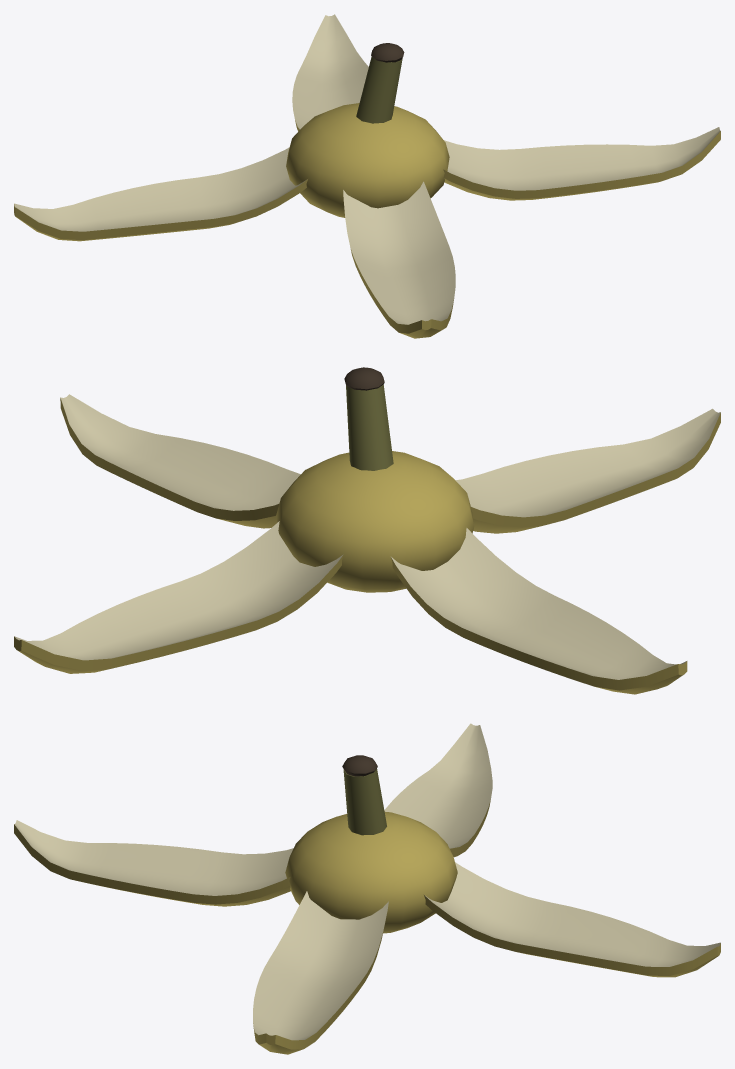
The model's file is w_pj_peel.glb.
The picture shows the model from 3 angles, top to bottom: view 1: azimuth 30°, elevation 25°; view 2: azimuth 150°, elevation 25°; view 3: azimuth 270°, elevation 25°; orthographic projection. The views are drawn at different scales.
Parts seen in each view (by area): view 1: peel_wzN, peel_wzA, stalk_wzB, stalk_wzN; view 2: peel_wzN, peel_wzA, stalk_wzB, stalk_wzN; view 3: peel_wzN, peel_wzA, stalk_wzB, stalk_wzN.
Part boxes in pixels (bbox=[...]): peel_wzN: bbox=[14, 14, 720, 324]; peel_wzA: bbox=[14, 103, 720, 338]; stalk_wzB: bbox=[356, 57, 402, 123]; stalk_wzN: bbox=[371, 43, 404, 62]; peel_wzN: bbox=[14, 394, 720, 679]; peel_wzA: bbox=[14, 398, 720, 694]; stalk_wzB: bbox=[346, 384, 393, 470]; stalk_wzN: bbox=[344, 367, 384, 390]; peel_wzN: bbox=[14, 723, 720, 1040]; peel_wzA: bbox=[14, 799, 720, 1054]; stalk_wzB: bbox=[343, 768, 386, 835]; stalk_wzN: bbox=[342, 755, 377, 776].
Size of the model in its own units: 0.2564 by 0.0661 by 0.2459.
